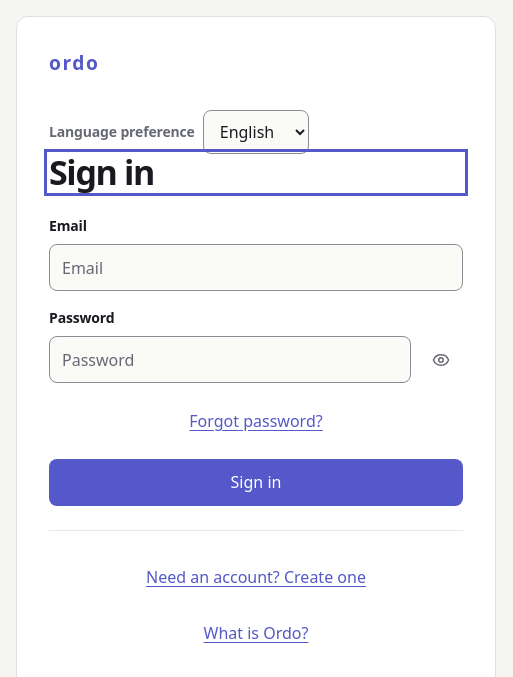
Test case: existing authentication flows › shows a fixed localized message for an unmapped login 401 body
The width and height of the screenshot is (513, 677).
Step 1. Type "person@example.invalid" into the field labelled "Email" → (256, 268), box left=49, top=244, right=463, bottom=291
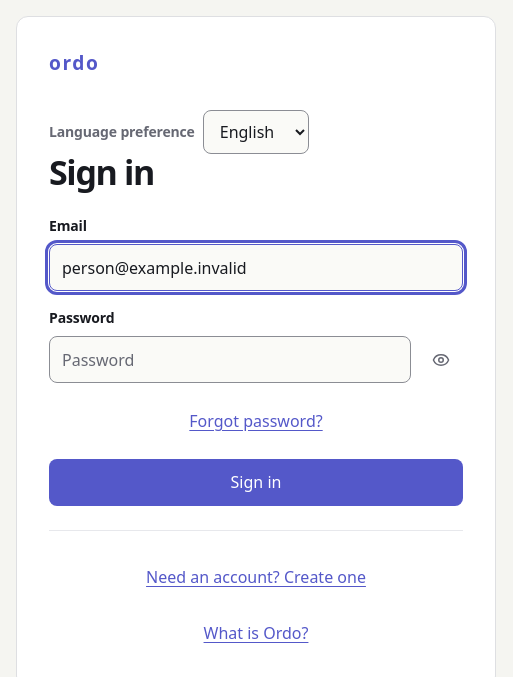
Step 2. Type "Synthetic1!" into the password field labelled "Password" → (230, 360), box left=49, top=336, right=411, bottom=383
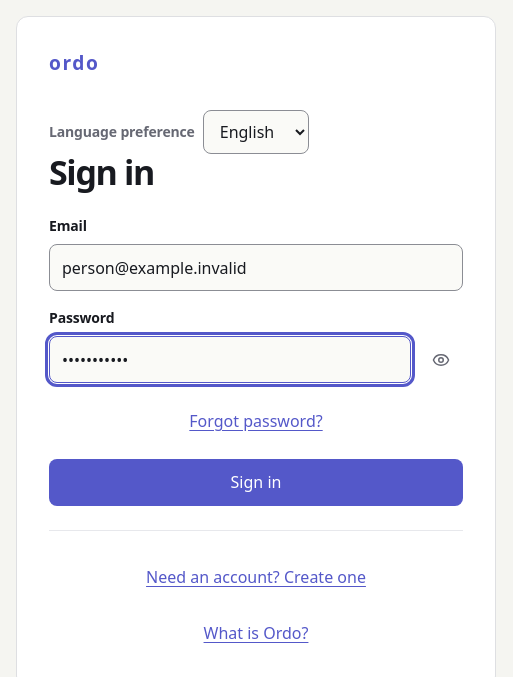
Step 3. Click the button "Sign in" → (256, 482), box left=49, top=459, right=463, bottom=506
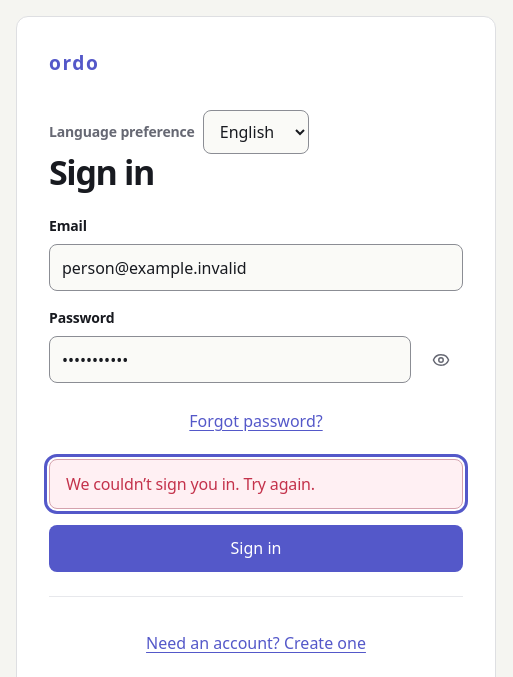
Result: the message reads "We couldn’t sign you in. Try again." at left=66, top=473, right=315, bottom=495
